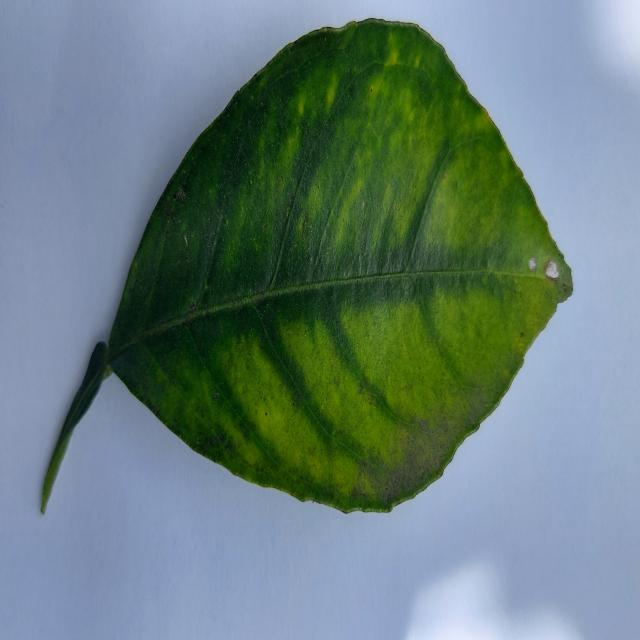greening: (42, 20, 572, 511)
